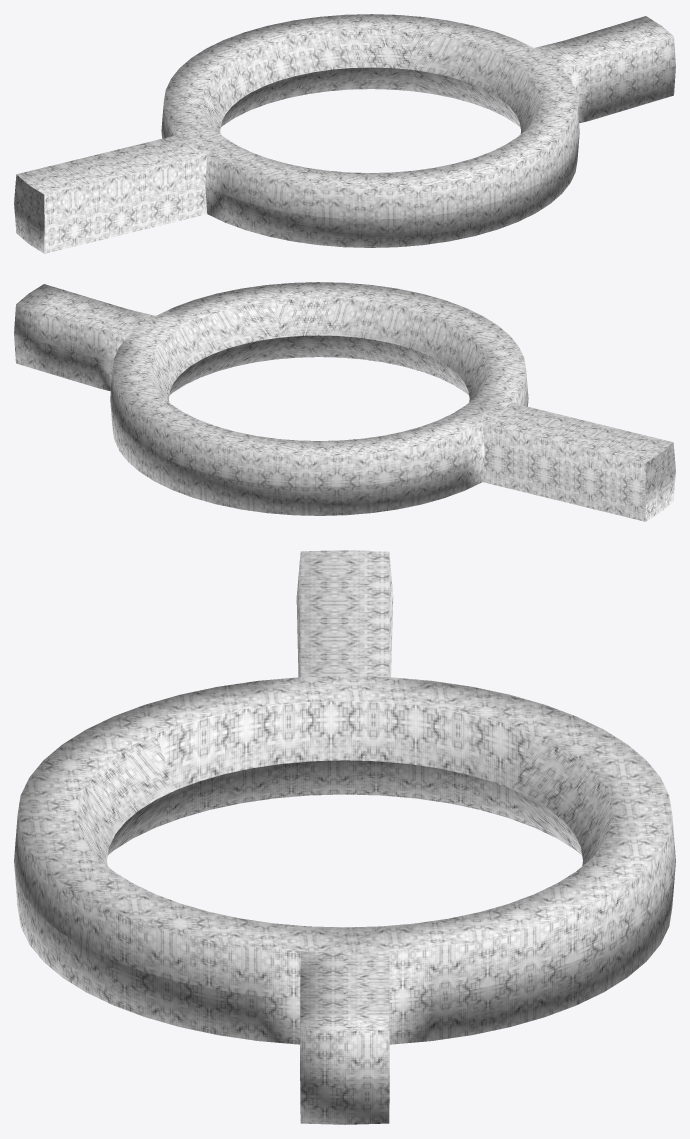
File: torus_space_station4.fbx
3 views of the same model, one above another, from view 1: azimuth 30°, elevation 25°; view 2: azimuth 150°, elevation 25°; view 3: azimuth 270°, elevation 25° (orthographic). The views are drawn at different scales.
Visible parts, largest first — view 1: BezierCircle; view 2: BezierCircle; view 3: BezierCircle.
Part boxes in pixels (x1,y1,x2,y2): BezierCircle: [14, 14, 675, 253]; BezierCircle: [14, 282, 675, 521]; BezierCircle: [14, 550, 675, 1124].
Bounding box in the file's own units: 1169 × 112 × 667.
